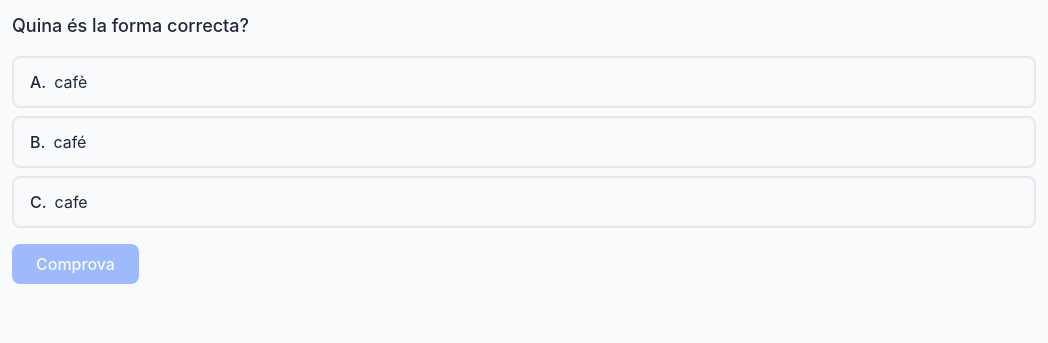
Test case: MultipleChoice › shows "Correcte!" feedback on correct answer
Click the button "A.cafè" at (71, 82), box [12, 56, 1036, 108]
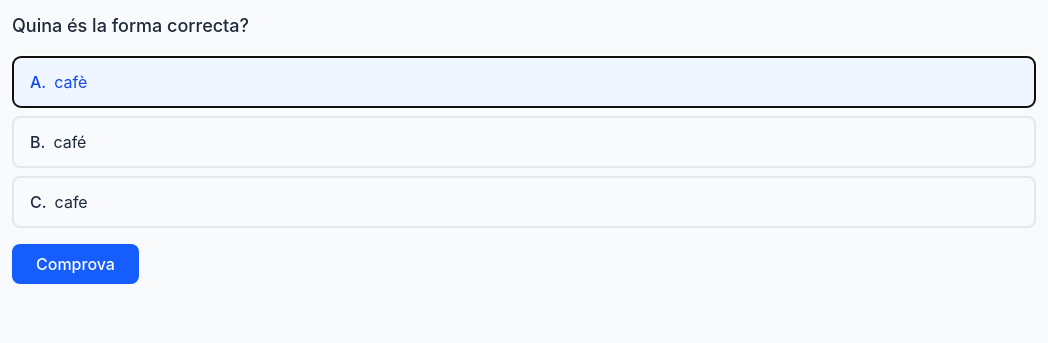
Click the button "Comprova" at (75, 264), box [12, 244, 139, 284]
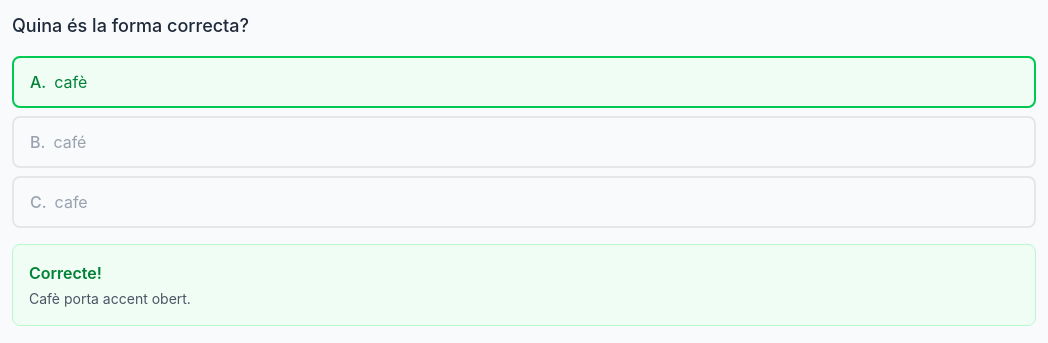
Expected: the text "Correcte!" is shown, [29, 263, 102, 283]
